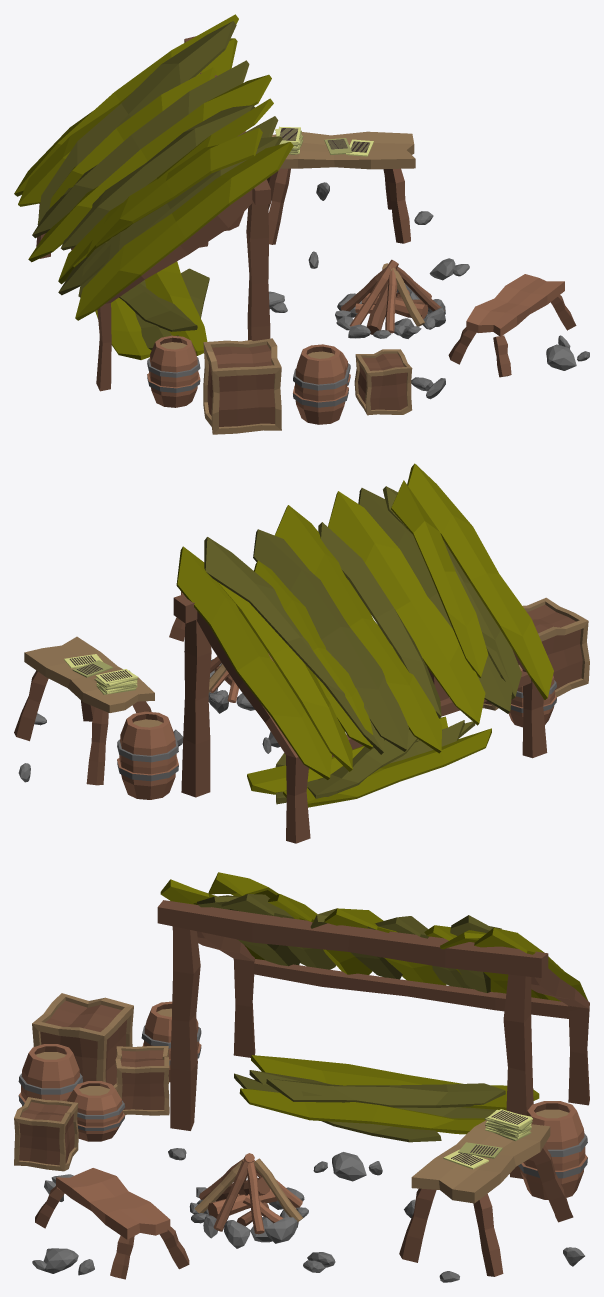
The model's file is Camp.fbx.
The picture shows the model from 3 angles, top to bottom: view 1: azimuth 30°, elevation 25°; view 2: azimuth 150°, elevation 25°; view 3: azimuth 270°, elevation 25°; orthographic projection. The views are drawn at different scales.
Parts seen in each view (by area): view 1: Palm Leaf.009, Cube.214, Palm Leaf.002, Palm Leaf.015, Palm Leaf.003, Palm Leaf.004, Palm Leaf.005, Cylinder.027, Cube.219, Cube.237, Cube.212, Cylinder.030 (+20 smaller); view 2: Palm Leaf.006, Palm Leaf, Palm Leaf.003, Palm Leaf.009, Palm Leaf.004, Palm Leaf.002, Palm Leaf.015, Cube.200, Cylinder.029, Palm Leaf.001, Palm Leaf.005, Cube.214 (+16 smaller); view 3: Cube.203, Cube.214, Cube.201, Cube.207, Cube.219, Palm Leaf.013, Palm Leaf.012, Cube.237, Cube.212, Cylinder.029, Cube.200, Palm Leaf.010 (+34 smaller).
Boxes of the visible parts, box(x1,y1,x2,y2) form: Palm Leaf.009: box(75, 142, 293, 320); Cube.214: box(203, 338, 281, 434); Palm Leaf.002: box(37, 21, 236, 224); Palm Leaf.015: box(86, 127, 262, 257); Palm Leaf.003: box(32, 60, 249, 238); Palm Leaf.004: box(28, 74, 271, 262); Palm Leaf.005: box(60, 105, 254, 250); Cylinder.027: box(293, 344, 348, 424); Cube.219: box(272, 131, 415, 169); Cube.237: box(354, 349, 412, 415); Cube.212: box(466, 274, 564, 336); Cylinder.030: box(147, 335, 200, 407); Palm Leaf.006: box(328, 491, 485, 725); Palm Leaf: box(176, 546, 331, 779); Palm Leaf.003: box(253, 529, 408, 751); Palm Leaf.009: box(407, 463, 553, 699); Palm Leaf.004: box(274, 505, 442, 753); Palm Leaf.002: box(204, 537, 383, 754); Palm Leaf.015: box(391, 480, 488, 677); Cube.200: box(181, 620, 211, 797); Cylinder.029: box(117, 711, 178, 799); Palm Leaf.001: box(217, 581, 352, 771); Palm Leaf.005: box(318, 522, 441, 718); Cube.214: box(522, 597, 589, 696); Cube.203: box(157, 900, 548, 977); Cube.214: box(32, 993, 133, 1091); Cube.201: box(170, 926, 200, 1130); Cube.207: box(253, 959, 582, 1018); Cube.219: box(411, 1120, 550, 1203); Palm Leaf.013: box(266, 1078, 505, 1107); Palm Leaf.012: box(239, 1088, 485, 1134); Cube.237: box(14, 1097, 78, 1171); Cube.212: box(56, 1168, 170, 1239); Cylinder.029: box(518, 1101, 587, 1199); Cube.200: box(503, 974, 533, 1178); Palm Leaf.010: box(251, 1055, 539, 1110).
Bounding box in the file's own units: 307 × 169 × 311.
